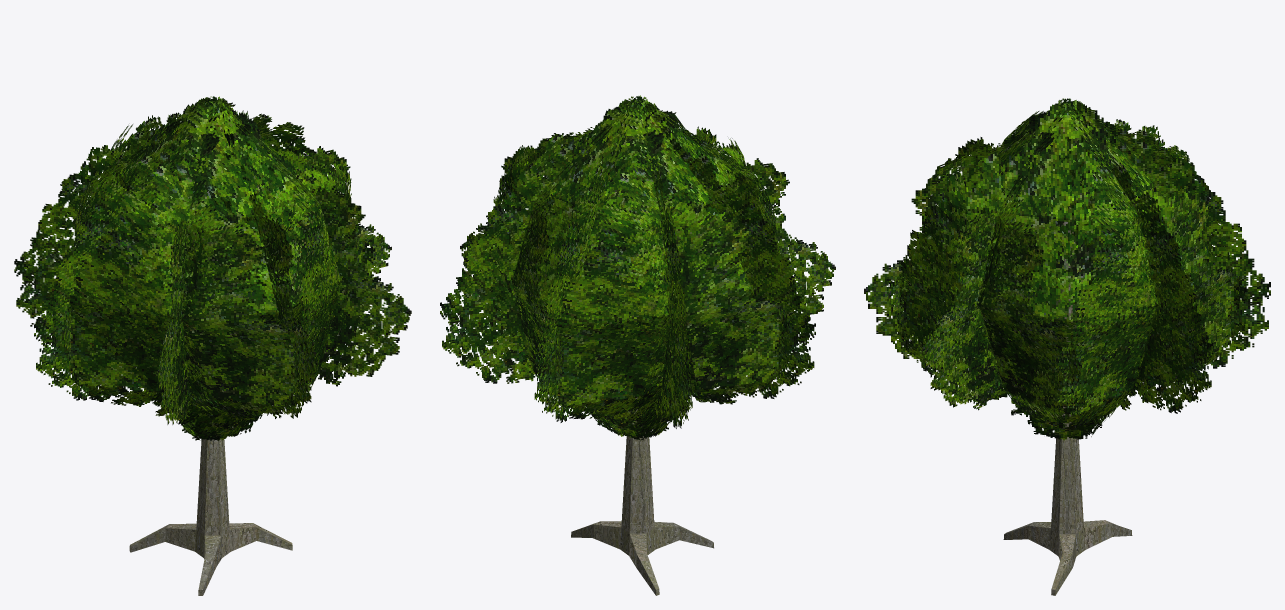
The model's file is tree05.glb.
3 views of the same model, side by side, from view 1: azimuth 30°, elevation 25°; view 2: azimuth 150°, elevation 25°; view 3: azimuth 270°, elevation 25° (orthographic).
Visible parts, largest first — view 1: tree05_top, tree05; view 2: tree05_top, tree05; view 3: tree05_top, tree05.
Boxes of the visible parts, left/top/right/bottom form: tree05_top: left=14, top=96, right=411, bottom=441; tree05: left=129, top=219, right=292, bottom=595; tree05_top: left=440, top=95, right=835, bottom=440; tree05: left=571, top=254, right=713, bottom=595; tree05_top: left=864, top=98, right=1270, bottom=440; tree05: left=1003, top=207, right=1132, bottom=595.
Bounding box in the file's own units: 3.36 × 4.19 × 3.36.
1 material, 1 textured.
